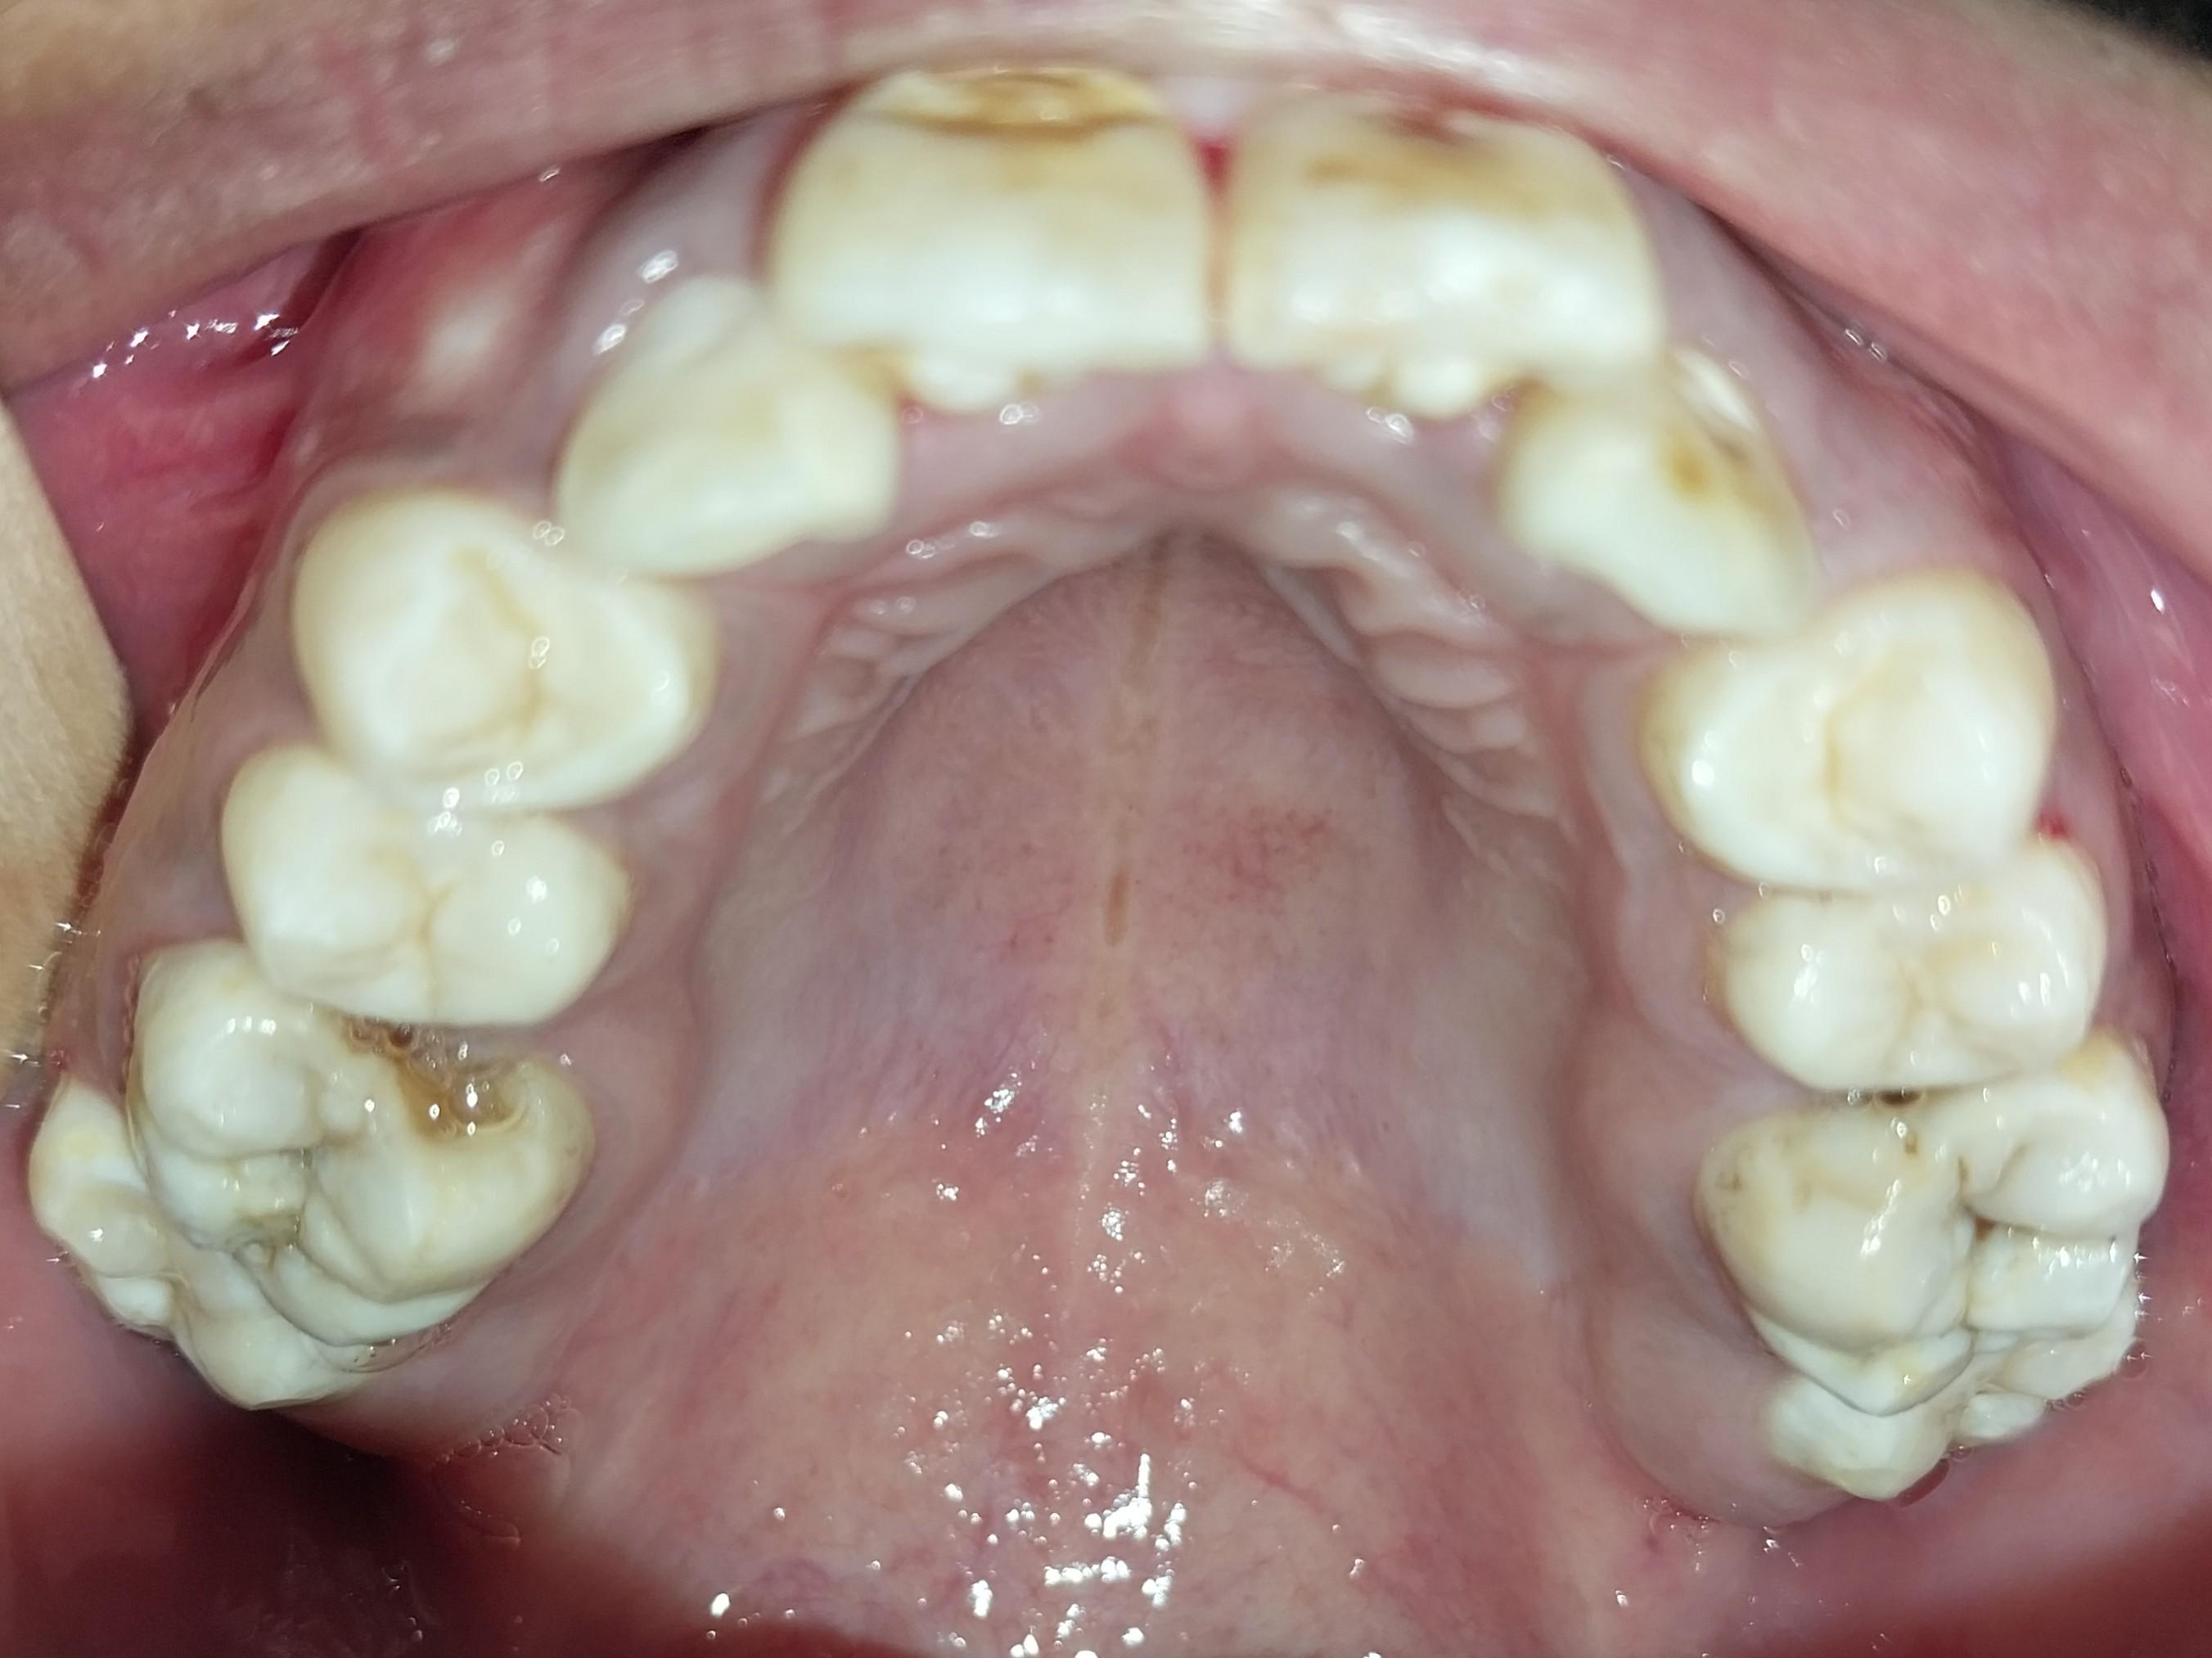D: (122, 953, 597, 1345)
